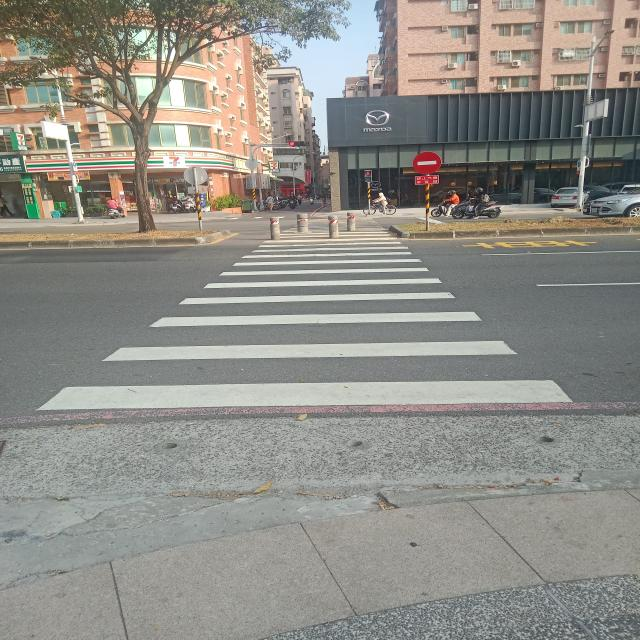zebra_crossing: (222, 108, 640, 311), (240, 108, 640, 318), (193, 100, 580, 298), (162, 97, 483, 291), (388, 297, 640, 514), (136, 98, 408, 293)
